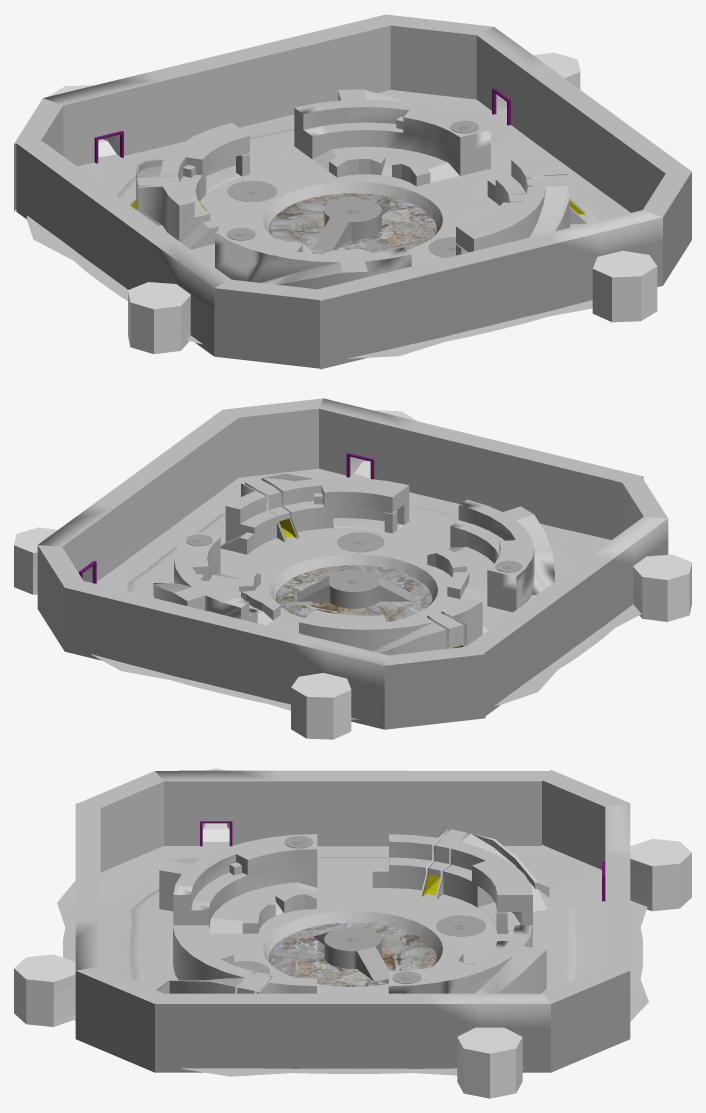
The model's file is LevelTextured.fbx.
3 views of the same model, one above another, from view 1: azimuth 30°, elevation 25°; view 2: azimuth 150°, elevation 25°; view 3: azimuth 270°, elevation 25° (orthographic). The views are drawn at different scales.
Parts seen in each view (by area): view 1: NorthWallAndSpawn, EastWallAndSpawn, SouthWallAndSpawn, WestWallAndSpawn, polySurface37, courtyard_outer_5 (×2), polySurface30 (×2), polySurface36, polySurface34, courtyard_cover1, Center_platform_and_stair_2, neutral_color_disc (+1 smaller); view 2: SouthWallAndSpawn, NorthWallAndSpawn, EastWallAndSpawn, WestWallAndSpawn, polySurface30 (×2), polySurface36, courtyard_outer_5 (×2), polySurface37, courtyard_cover1 (×2), polySurface34, Center_platform_and_stair_2, neutral_color_disc2; view 3: WestWallAndSpawn, EastWallAndSpawn, polySurface37, polySurface36, polySurface30 (×2), NorthWallAndSpawn, courtyard_outer_5 (×2), SouthWallAndSpawn, polySurface34, courtyard_cover1, Center_platform_and_stair_2, neutral_color_disc.
Part boxes in pixels (box(x1,y1,x2,y2)): NorthWallAndSpawn: box(316, 171, 691, 369); EastWallAndSpawn: box(16, 141, 321, 368); SouthWallAndSpawn: box(14, 14, 390, 211); WestWallAndSpawn: box(386, 14, 691, 212); polySurface37: box(26, 90, 570, 283); courtyard_outer_5 (×2): box(215, 89, 490, 289); polySurface30 (×2): box(130, 122, 587, 255); polySurface36: box(102, 169, 630, 358); polySurface34: box(269, 193, 436, 254); courtyard_cover1: box(312, 146, 459, 186); Center_platform_and_stair_2: box(313, 197, 392, 251); neutral_color_disc: box(227, 181, 276, 201); SouthWallAndSpawn: box(64, 581, 485, 739); NorthWallAndSpawn: box(223, 398, 643, 539); EastWallAndSpawn: box(467, 476, 691, 715); WestWallAndSpawn: box(14, 410, 238, 650); polySurface30 (×2): box(225, 472, 482, 655); polySurface36: box(150, 468, 641, 649); courtyard_outer_5 (×2): box(153, 499, 554, 623); polySurface37: box(90, 543, 587, 719); courtyard_cover1 (×2): box(209, 546, 494, 625); polySurface34: box(276, 565, 432, 621); Center_platform_and_stair_2: box(297, 569, 411, 608); neutral_color_disc2: box(337, 532, 384, 552); WestWallAndSpawn: box(155, 967, 630, 1098); EastWallAndSpawn: box(77, 768, 550, 872); polySurface37: box(353, 844, 648, 1075); polySurface36: box(57, 841, 352, 1076); polySurface30 (×2): box(156, 828, 549, 993); NorthWallAndSpawn: box(14, 803, 163, 1072); courtyard_outer_5 (×2): box(159, 834, 546, 993); SouthWallAndSpawn: box(542, 770, 691, 970); polySurface34: box(269, 922, 436, 986); courtyard_cover1: box(209, 882, 317, 933); Center_platform_and_stair_2: box(313, 927, 389, 981); neutral_color_disc: box(436, 915, 485, 936).
Bounding box in the file's own units: 187 × 22 × 188.
